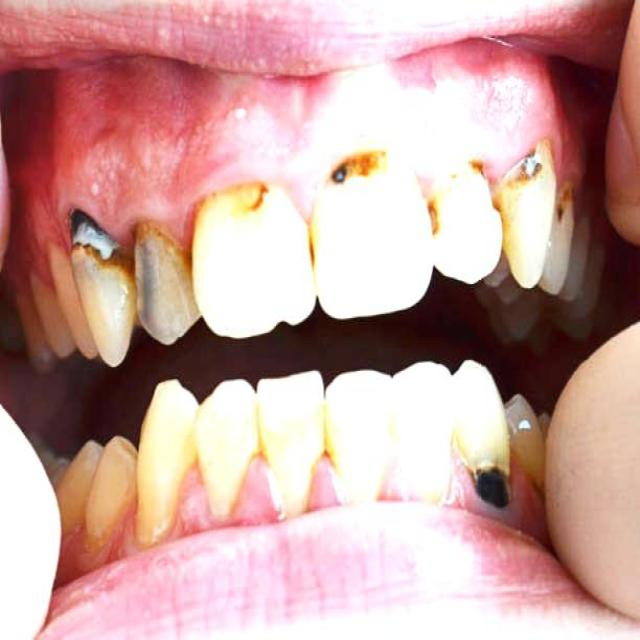caries: (61, 199, 120, 269), (325, 138, 392, 196), (463, 446, 514, 520), (468, 153, 508, 220), (507, 133, 552, 192), (242, 174, 286, 227), (420, 182, 456, 242), (550, 184, 576, 234)
